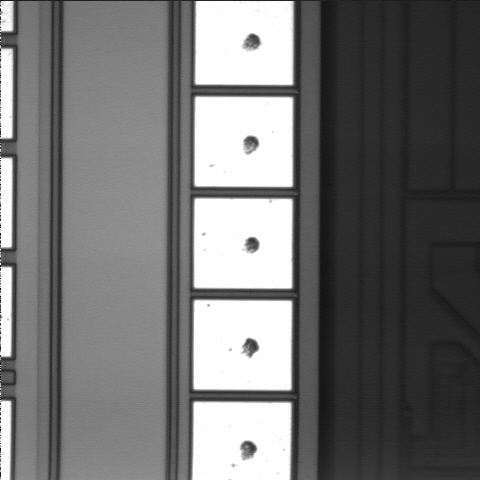pad: (194, 198, 292, 289), (195, 97, 293, 187), (194, 300, 292, 390)
